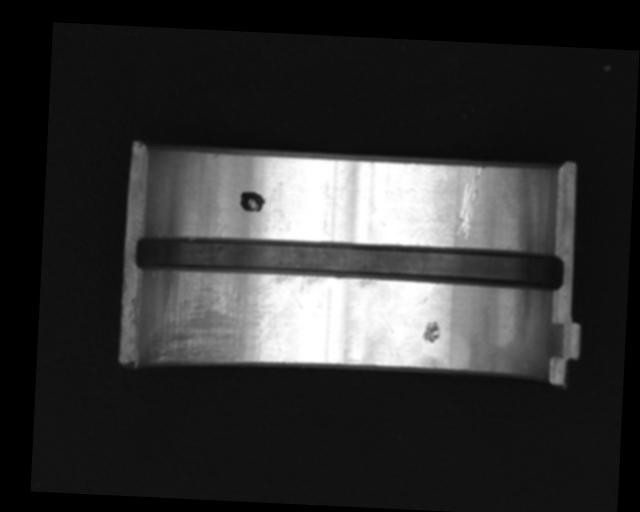blot: (237, 190, 268, 213)
bruise: (420, 318, 443, 345)
gap: (131, 231, 566, 293)
nick: (454, 162, 484, 240)
scratch: (143, 266, 291, 373)
